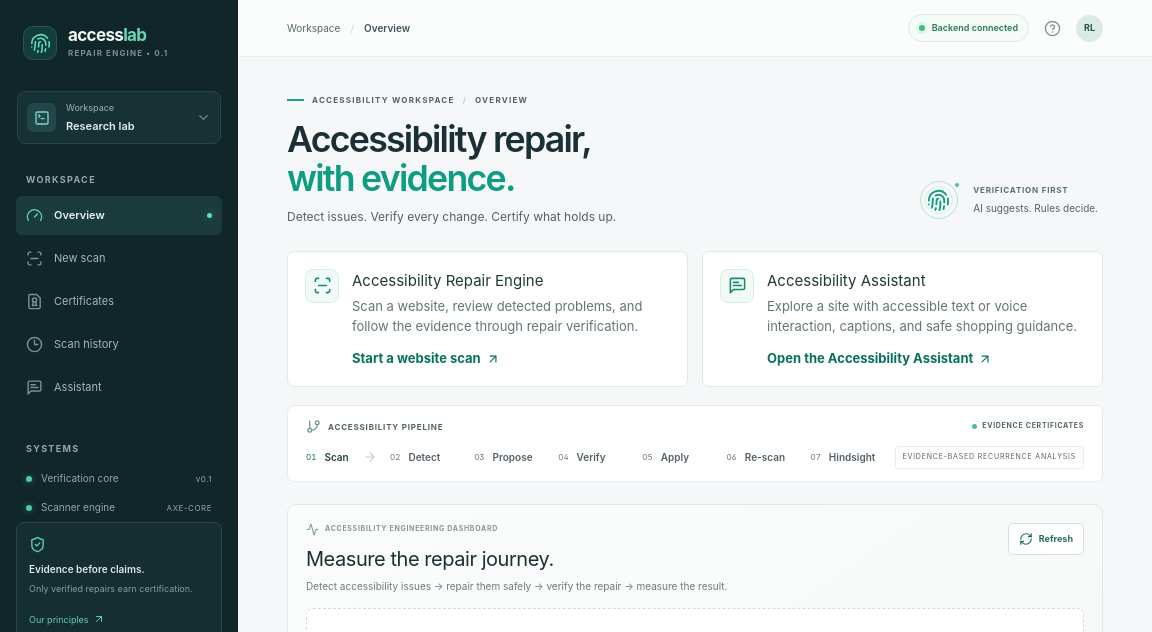
dashboard › shows actual severity totals and WCAG-unavailable fallback with keyboard-operable details
Expected: the text "Backend connected" is shown, x1=908 y1=14 x2=1029 y2=42
Click the link "New scan" at (66,258), box x1=26 y1=250 x2=106 y2=266
(page scrolled)
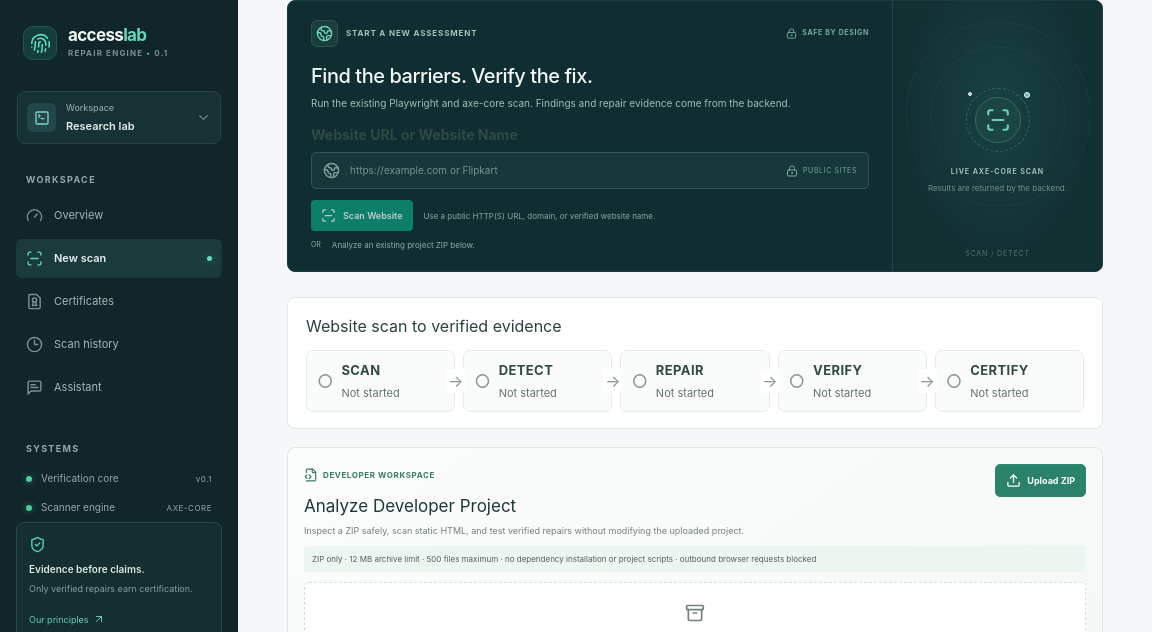
Type "https://example.com" into the field labelled "Website URL or Website Name" at (563,171), box x1=350 y1=163 x2=776 y2=178
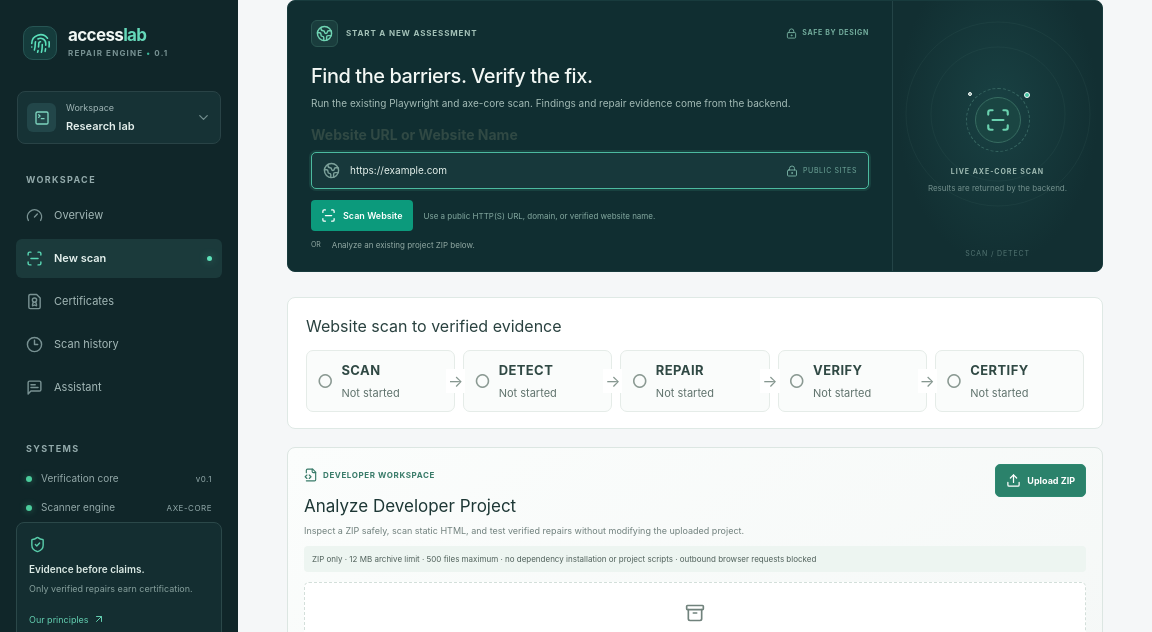
Click the button "Scan Website" at (362,216), box x1=311 y1=200 x2=412 y2=231
(page scrolled)
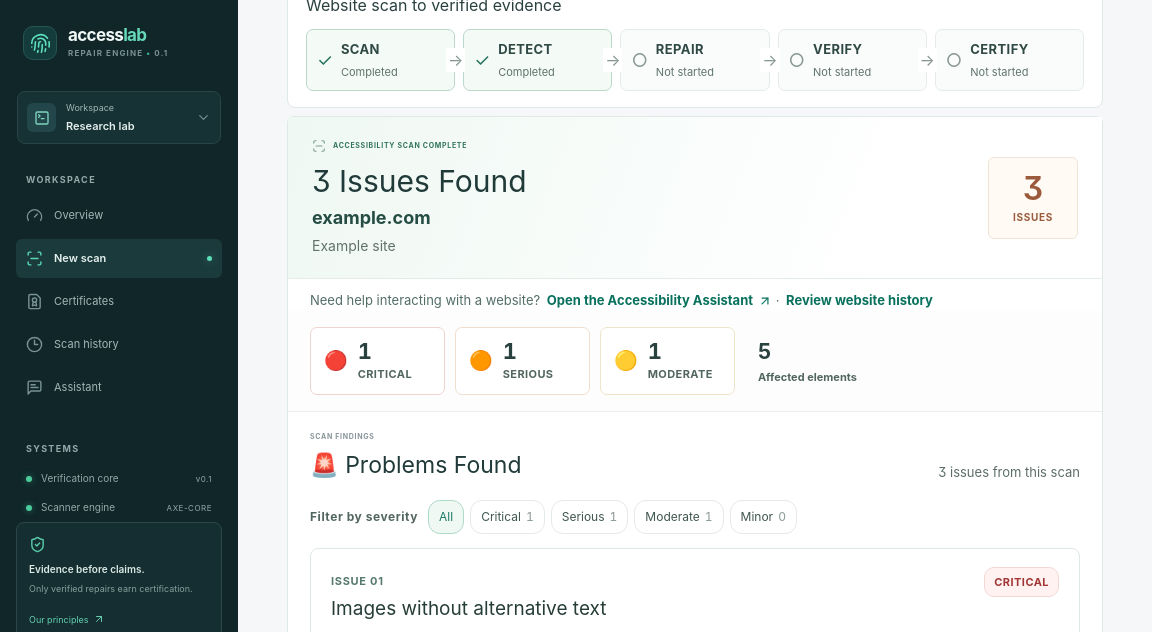
Expected: the heading "3 Issues Found" is shown, x1=312 y1=163 x2=527 y2=199
Expected: the text "CRITICAL" shows "1", x1=358 y1=338 x2=372 y2=364
Expected: the text "SERIOUS" shows "1", x1=503 y1=338 x2=517 y2=364
Press Enter
(page scrolled)
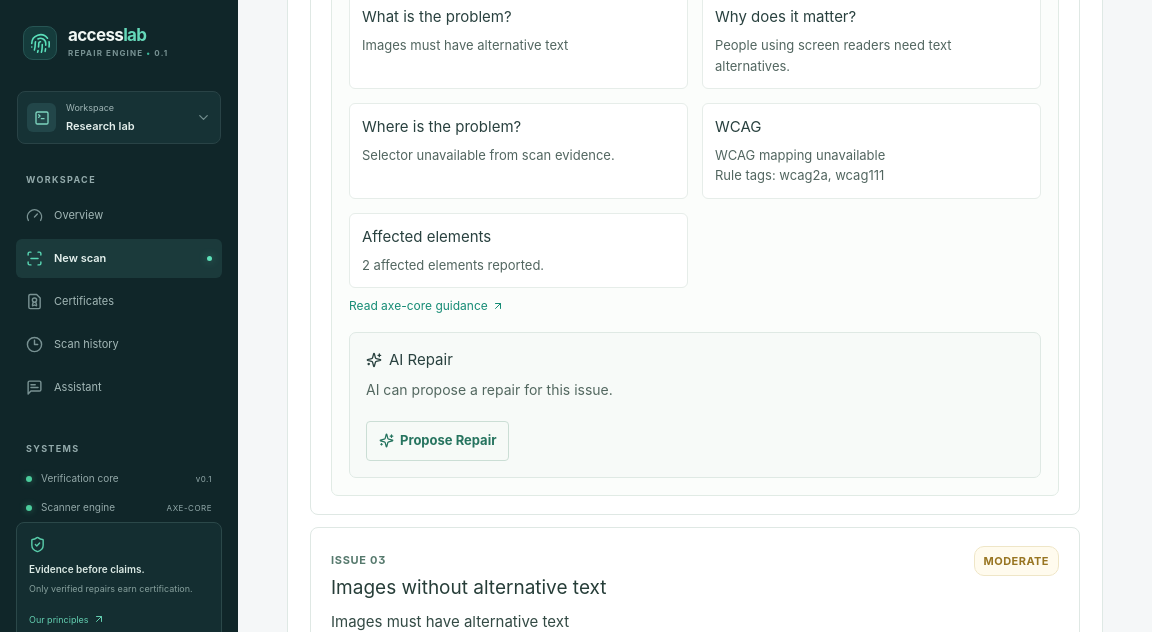
Expected: the heading "AI Repair" is shown, x1=366 y1=350 x2=453 y2=369
